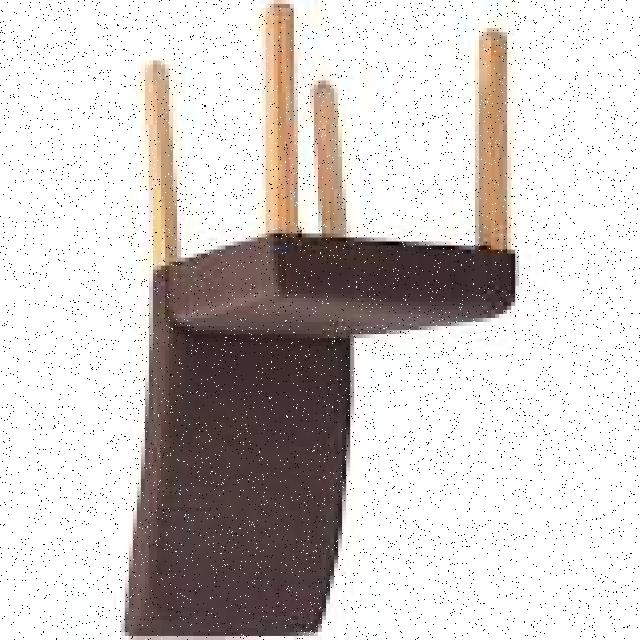bottle: (121, 4, 522, 637)
